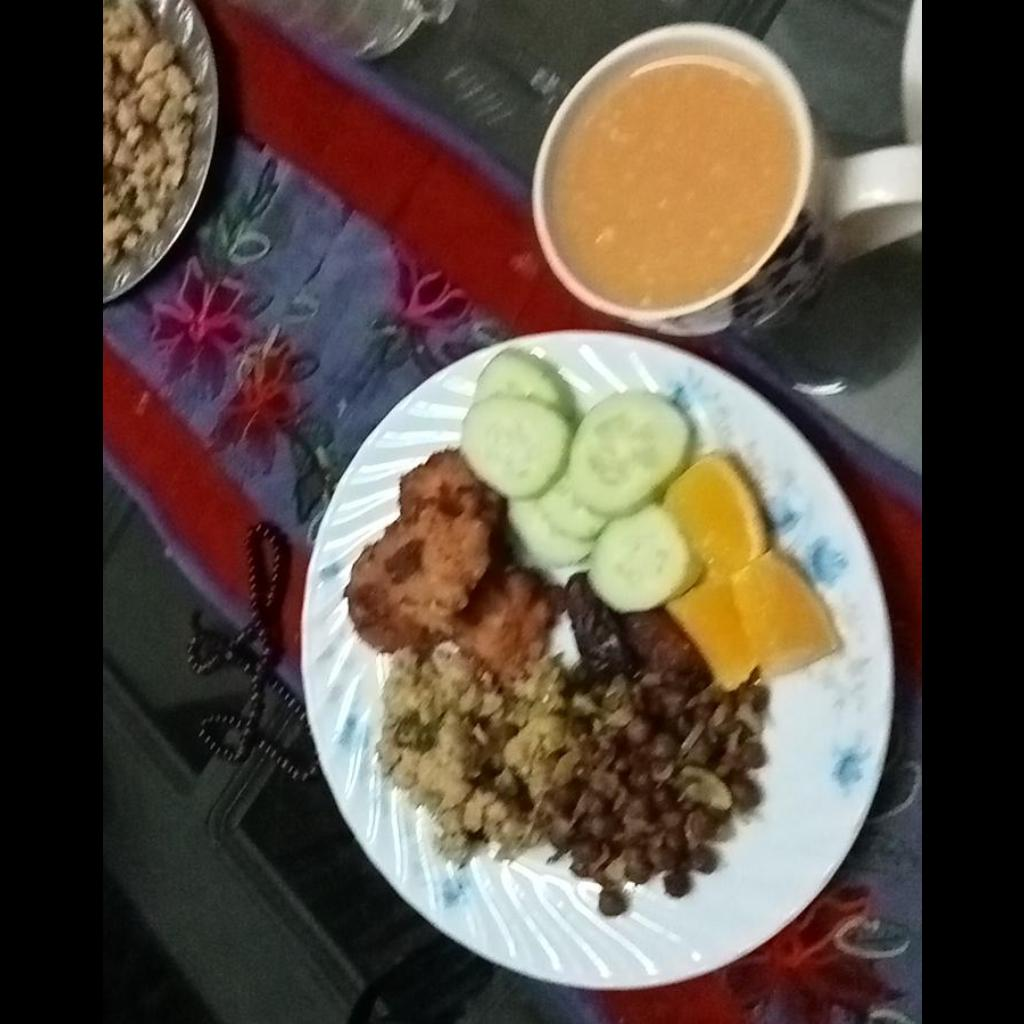chola: (375, 568, 766, 921)
cucumber: (461, 348, 697, 612)
juice: (548, 58, 799, 306)
orange: (663, 455, 837, 693)
peyaju: (353, 450, 550, 670)
